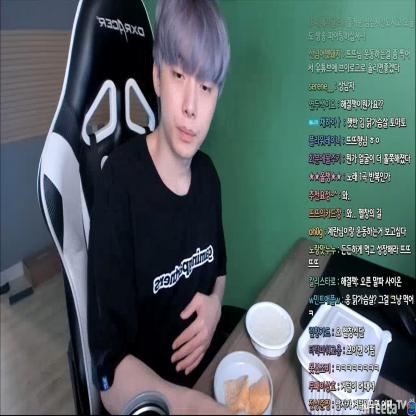streamer: (88, 0, 236, 416)
